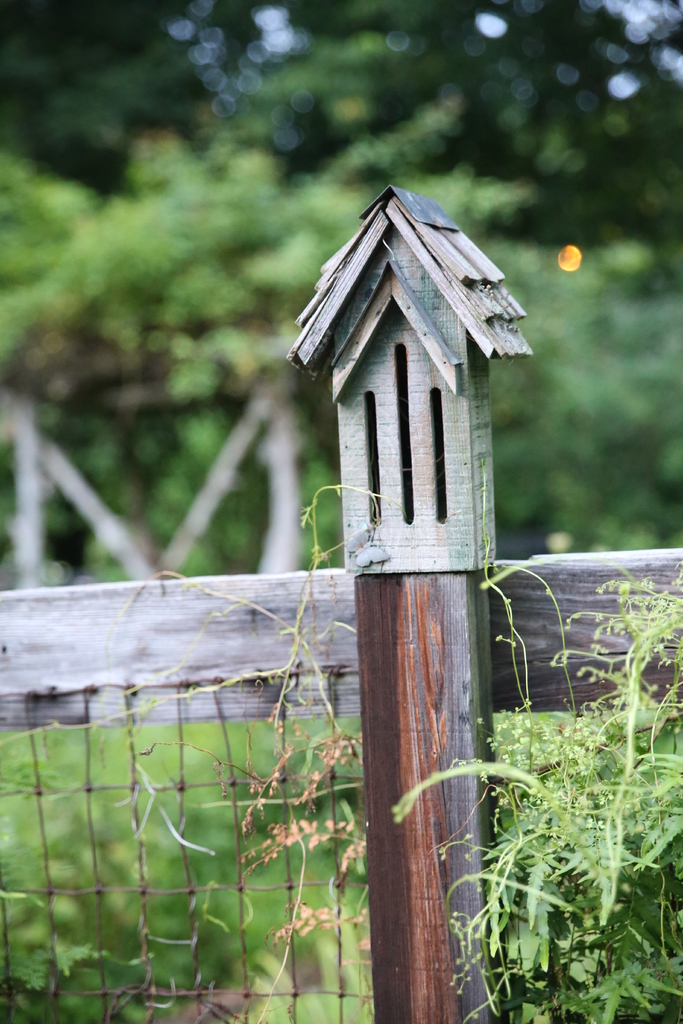Tree: (0, 0, 682, 582)
